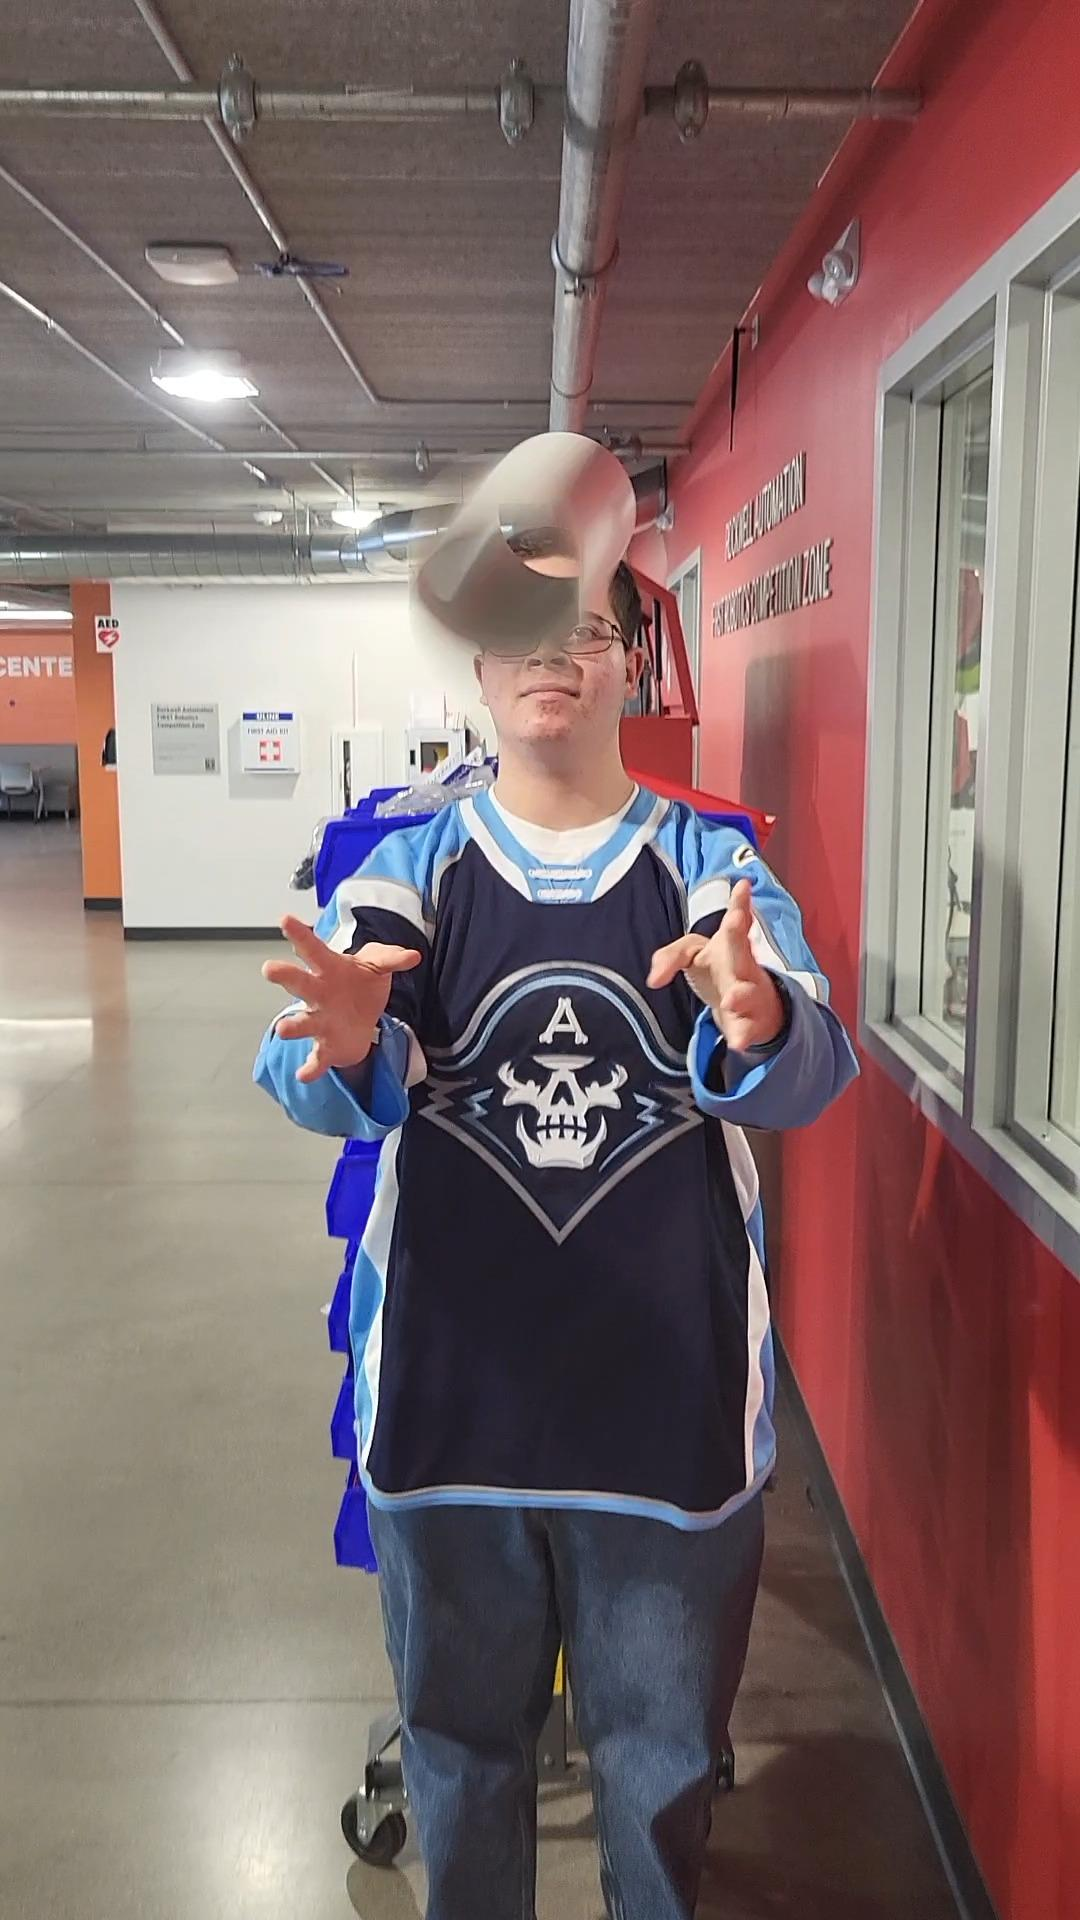coral: (417, 423, 646, 663)
